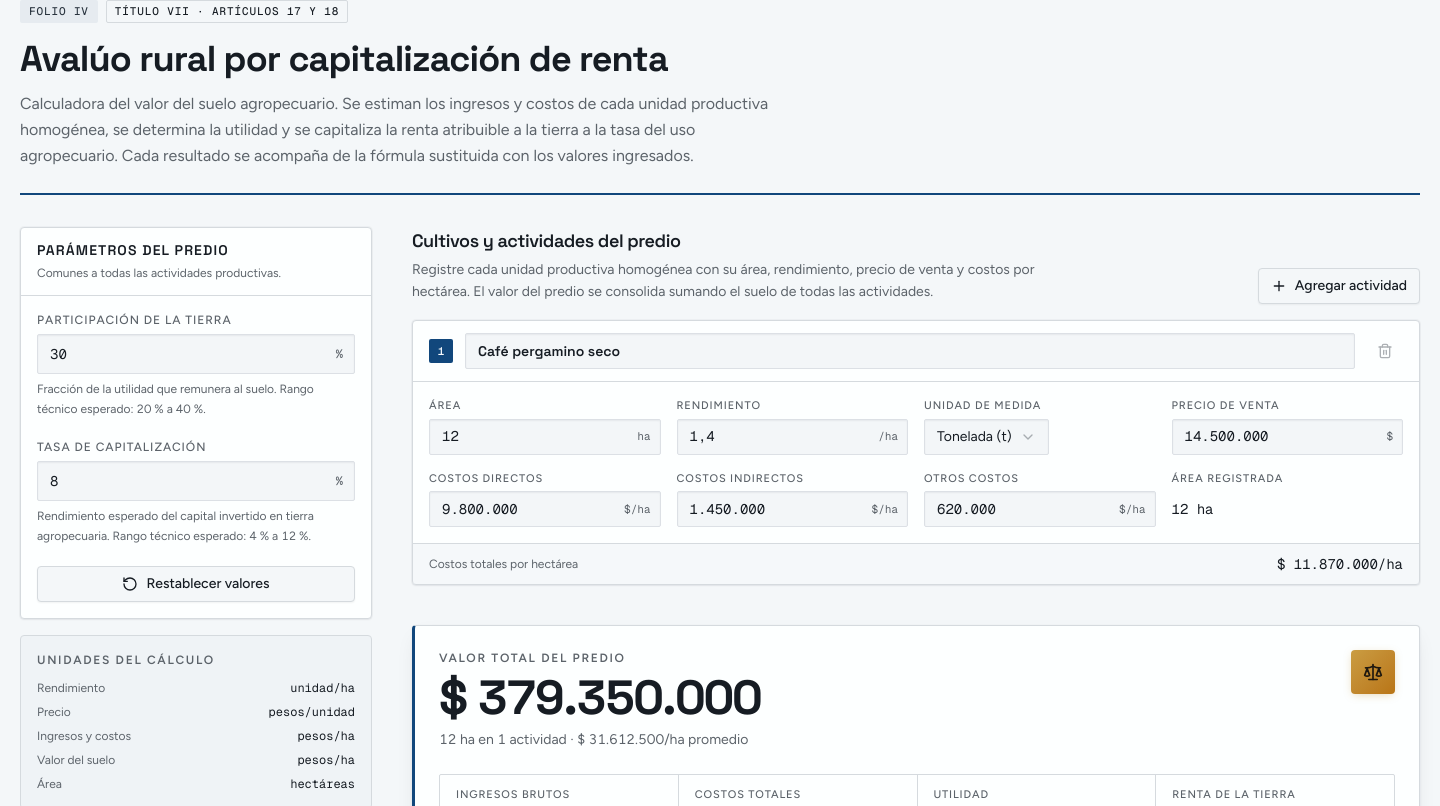
Test case: AvaluoRuralPage › advierte cuando los parámetros salen del rango técnico
This screenshot has width=1440, height=806.
Replace the text in the field with test id "rural.participacion_input" with "60": coordinates (196, 354) x1=37 y1=334 x2=355 y2=374
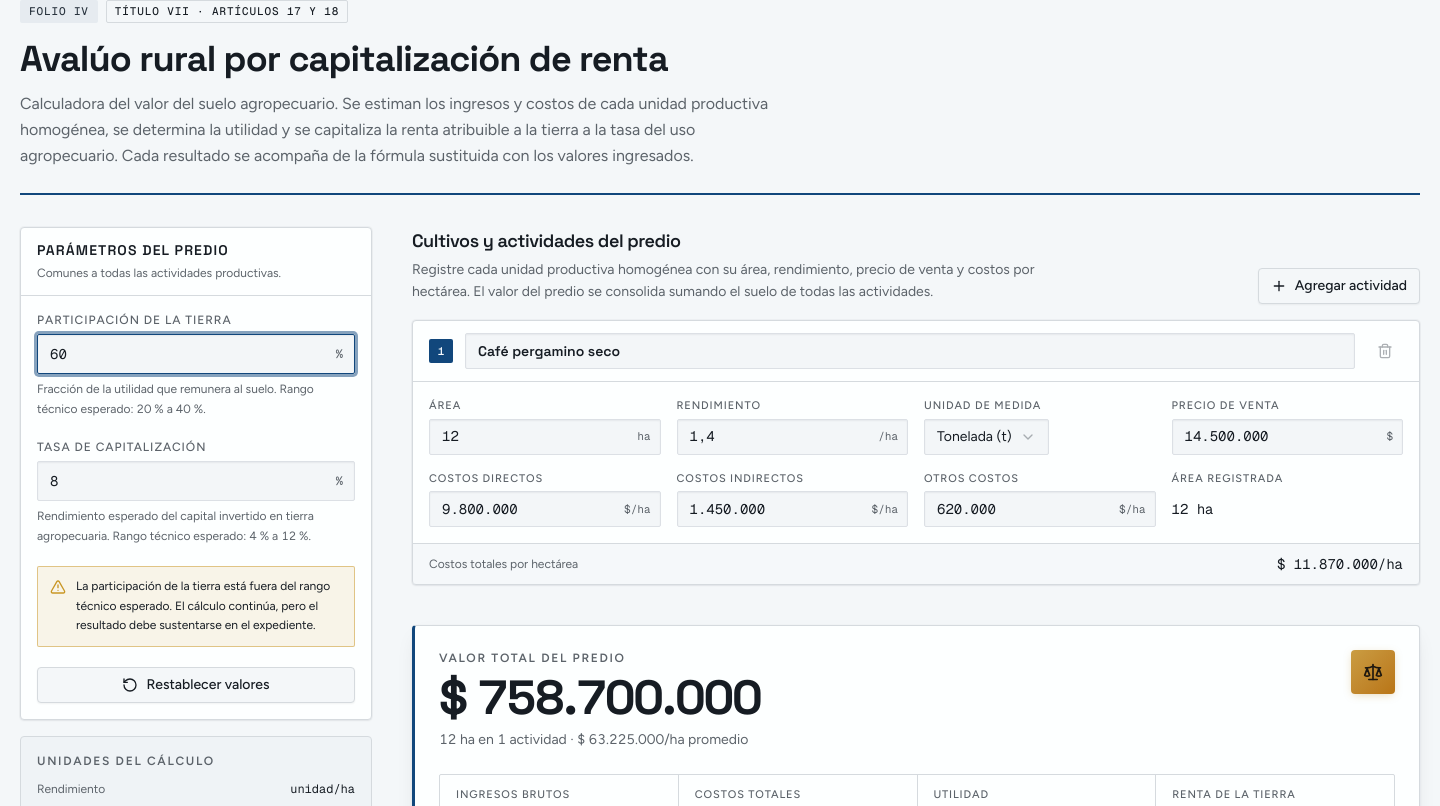
Expected: the element with test id "rural.parametros_warning" is shown, x1=37 y1=566 x2=355 y2=646
